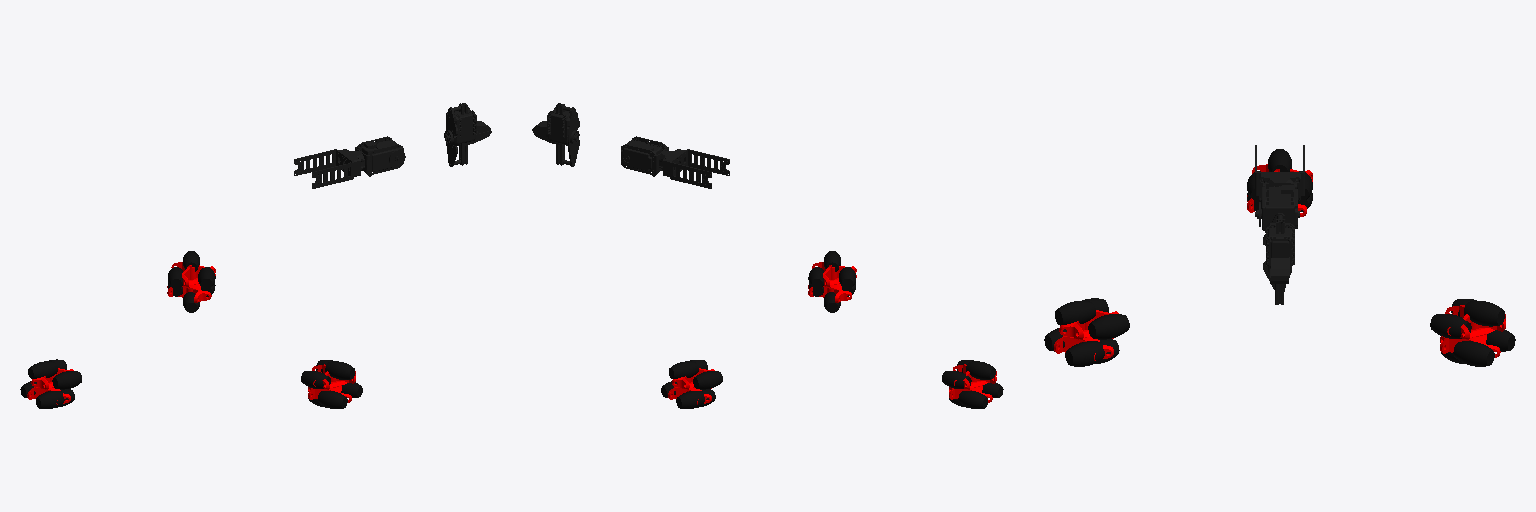
--- Facts derived from the render (not from the file) ---
Views: 3 orthographic renders of the robot side by side, from view 1: azimuth 30°, elevation 25°; view 2: azimuth 150°, elevation 25°; view 3: azimuth 270°, elevation 25°.
Model demo_DIR with 45 links and 44 joints (6 revolute, 21 continuous, 2 prismatic, 15 fixed), rooted at base_footprint, posed all joints at 0.
Visible links, largest first — view 1: forearm_link, wrist_2_link, rim_left_link, gripper_rail_link, rim_right_link; view 2: forearm_link, wrist_2_link, rim_right_link, gripper_rail_link, rim_back_link; view 3: forearm_link, rim_left_link, wrist_2_link, rim_right_link, roller_nw_rim_right_link, roller_sw_rim_left_link, roller_n_rim_left_link, roller_se_rim_right_link, roller_n_rim_right_link, roller_ne_rim_left_link.
Boxes of the visible links, left/top/right/bottom form: forearm_link: left=294, top=136, right=405, bottom=188; wrist_2_link: left=444, top=107, right=477, bottom=145; rim_left_link: left=167, top=262, right=215, bottom=302; gripper_rail_link: left=446, top=103, right=467, bottom=166; rim_right_link: left=308, top=364, right=355, bottom=402; forearm_link: left=621, top=136, right=729, bottom=188; wrist_2_link: left=546, top=107, right=579, bottom=145; rim_right_link: left=808, top=262, right=856, bottom=302; gripper_rail_link: left=556, top=103, right=579, bottom=166; rim_back_link: left=949, top=364, right=996, bottom=402; forearm_link: left=1255, top=145, right=1304, bottom=232; rim_left_link: left=1440, top=305, right=1505, bottom=357; wrist_2_link: left=1266, top=223, right=1294, bottom=274; rim_right_link: left=1054, top=310, right=1118, bottom=360; roller_nw_rim_right_link: left=1088, top=314, right=1129, bottom=339; roller_sw_rim_left_link: left=1453, top=341, right=1494, bottom=366; roller_n_rim_left_link: left=1464, top=301, right=1504, bottom=326; roller_se_rim_right_link: left=1065, top=341, right=1106, bottom=366; roller_n_rim_right_link: left=1055, top=301, right=1095, bottom=325; roller_ne_rim_left_link: left=1430, top=314, right=1471, bottom=338.
Size in the robot's own frame: 0.8057 by 0.5221 by 0.3421 metres.
26 mesh visuals loaded from 12 distinct referenced files (6 binary STL); not drawn: 7 (reference not matched to a file when rendering).

robot.urdf — demo_DIR:
<?xml version="1.0" encoding="utf-8"?>
<!-- =================================================================================== -->
<!-- |    This document was autogenerated by xacro from main.urdf.xacro                | -->
<!-- |    EDITING THIS FILE BY HAND IS NOT RECOMMENDED                                 | -->
<!-- =================================================================================== -->
<robot name="demo_DIR">
  <transmission name="tran1">
    <type>transmission_interface/SimpleTransmission</type>
    <joint name="joint_1">
      <hardwareInterface>hardware_interface/EffortJointInterface</hardwareInterface>
    </joint>
    <actuator name="motor1">
      <hardwareInterface>hardware_interface/EffortJointInterface</hardwareInterface>
      <mechanicalReduction>1</mechanicalReduction>
    </actuator>
  </transmission>
  <transmission name="tran2">
    <type>transmission_interface/SimpleTransmission</type>
    <joint name="joint_2">
      <hardwareInterface>hardware_interface/EffortJointInterface</hardwareInterface>
    </joint>
    <actuator name="motor2">
      <hardwareInterface>hardware_interface/EffortJointInterface</hardwareInterface>
      <mechanicalReduction>1</mechanicalReduction>
    </actuator>
  </transmission>
  <transmission name="tran3">
    <type>transmission_interface/SimpleTransmission</type>
    <joint name="joint_3">
      <hardwareInterface>hardware_interface/EffortJointInterface</hardwareInterface>
    </joint>
    <actuator name="motor3">
      <hardwareInterface>hardware_interface/EffortJointInterface</hardwareInterface>
      <mechanicalReduction>1</mechanicalReduction>
    </actuator>
  </transmission>
  <transmission name="tran4">
    <type>transmission_interface/SimpleTransmission</type>
    <joint name="joint_4">
      <hardwareInterface>hardware_interface/EffortJointInterface</hardwareInterface>
    </joint>
    <actuator name="motor4">
      <hardwareInterface>hardware_interface/EffortJointInterface</hardwareInterface>
      <mechanicalReduction>1</mechanicalReduction>
    </actuator>
  </transmission>
  <transmission name="tran5">
    <type>transmission_interface/SimpleTransmission</type>
    <joint name="joint_5">
      <hardwareInterface>hardware_interface/EffortJointInterface</hardwareInterface>
    </joint>
    <actuator name="motor5">
      <hardwareInterface>hardware_interface/EffortJointInterface</hardwareInterface>
      <mechanicalReduction>1</mechanicalReduction>
    </actuator>
  </transmission>
  <transmission name="tran7">
    <type>transmission_interface/SimpleTransmission</type>
    <joint name="gripper_prismatic_joint_1">
      <hardwareInterface>hardware_interface/EffortJointInterface</hardwareInterface>
    </joint>
    <actuator name="motor7">
      <hardwareInterface>hardware_interface/EffortJointInterface</hardwareInterface>
      <mechanicalReduction>1</mechanicalReduction>
    </actuator>
  </transmission>
  <transmission name="tran8">
    <type>transmission_interface/SimpleTransmission</type>
    <joint name="gripper_prismatic_joint_2">
      <hardwareInterface>hardware_interface/EffortJointInterface</hardwareInterface>
    </joint>
    <actuator name="motor8">
      <hardwareInterface>hardware_interface/EffortJointInterface</hardwareInterface>
      <mechanicalReduction>1</mechanicalReduction>
    </actuator>
  </transmission>
  <material name="camera_aluminum">
    <color rgba="0.5 0.5 0.5 1"/>
  </material>
  <!-- camera body, with origin at bottom screw mount -->
  <joint name="camera_joint" type="fixed">
    <origin rpy="0 0 0" xyz="0.025 0 0.01"/>
    <parent link="wrist_2_link"/>
    <child link="camera_bottom_screw_frame"/>
  </joint>
  <link name="camera_bottom_screw_frame"/>
  <joint name="camera_link_joint" type="fixed">
    <origin rpy="0 0 0" xyz="0 0.0175 0.0125"/>
    <parent link="camera_bottom_screw_frame"/>
    <child link="camera_link"/>
  </joint>
  <link name="camera_link">
    <visual>
      <origin rpy="1.57079632679 0 1.57079632679" xyz="0.0149 -0.0175 0"/>
      <geometry>
        <!-- <box size="${d435_cam_width} ${d435_cam_height} ${d435_cam_depth}"/> -->
        <mesh filename="package://realsense2_description/meshes/d435.dae"/>
        <!--<mesh filename="package://realsense2_description/meshes/d435/d435.dae" />-->
      </geometry>
      <material name="camera_aluminum"/>
    </visual>
    <collision>
      <origin rpy="0 0 0" xyz="0 -0.0175 0"/>
      <geometry>
        <box size="0.02505 0.09 0.025"/>
      </geometry>
    </collision>
    <!--inertial>
         The following are not reliable values, and should not be used for modeling 
        <mass value="0.564" />
        <origin xyz="0 0 0" />
        <inertia ixx="0.003881243" ixy="0.0" ixz="0.0" iyy="0.000498940" iyz="0.0" izz="0.003879257" />
      </inertial>-->
  </link>
  <!-- camera depth joints and links -->
  <joint name="camera_depth_joint" type="fixed">
    <origin rpy="0 0 0" xyz="0 0 0"/>
    <parent link="camera_link"/>
    <child link="camera_depth_frame"/>
  </joint>
  <link name="camera_depth_frame"/>
  <joint name="camera_depth_optical_joint" type="fixed">
    <origin rpy="-1.57079632679 0 -1.57079632679" xyz="0 0 0"/>
    <parent link="camera_depth_frame"/>
    <child link="camera_depth_optical_frame"/>
  </joint>
  <link name="camera_depth_optical_frame"/>
  <!-- camera left IR joints and links -->
  <joint name="camera_left_ir_joint" type="fixed">
    <origin rpy="0 0 0" xyz="0 0.0 0"/>
    <parent link="camera_depth_frame"/>
    <child link="camera_left_ir_frame"/>
  </joint>
  <link name="camera_left_ir_frame"/>
  <joint name="camera_left_ir_optical_joint" type="fixed">
    <origin rpy="-1.57079632679 0 -1.57079632679" xyz="0 0 0"/>
    <parent link="camera_left_ir_frame"/>
    <child link="camera_left_ir_optical_frame"/>
  </joint>
  <link name="camera_left_ir_optical_frame"/>
  <!-- camera right IR joints and links -->
  <joint name="camera_right_ir_joint" type="fixed">
    <origin rpy="0 0 0" xyz="0 -0.05 0"/>
    <parent link="camera_depth_frame"/>
    <child link="camera_right_ir_frame"/>
  </joint>
  <link name="camera_right_ir_frame"/>
  <joint name="camera_right_ir_optical_joint" type="fixed">
    <origin rpy="-1.57079632679 0 -1.57079632679" xyz="0 0 0"/>
    <parent link="camera_right_ir_frame"/>
    <child link="camera_right_ir_optical_frame"/>
  </joint>
  <link name="camera_right_ir_optical_frame"/>
  <!-- camera color joints and links -->
  <joint name="camera_color_joint" type="fixed">
    <origin rpy="0 0 0" xyz="0 0.015 0"/>
    <parent link="camera_depth_frame"/>
    <child link="camera_color_frame"/>
  </joint>
  <link name="camera_color_frame"/>
  <joint name="camera_color_optical_joint" type="fixed">
    <origin rpy="-1.57079632679 0 -1.57079632679" xyz="0 0 0"/>
    <parent link="camera_color_frame"/>
    <child link="camera_color_optical_frame"/>
  </joint>
  <link name="camera_color_optical_frame"/>
  <gazebo reference="camera_link">
    <self_collide>0</self_collide>
    <enable_wind>0</enable_wind>
    <kinematic>0</kinematic>
    <gravity>1</gravity>
    <!--<mu>1</mu>-->
    <mu2>1</mu2>
    <fdir1>0 0 0</fdir1>
    <!--<slip1>0</slip1>
      <slip2>0</slip2>-->
    <kp>1e+13</kp>
    <kd>1</kd>
    <!--<max_vel>0.01</max_vel>
      <min_depth>0</min_depth>-->
    <sensor name="cameracolor" type="camera">
      <camera name="camera">
        <horizontal_fov>1.21125850088</horizontal_fov>
        <image>
          <width>640</width>
          <height>480</height>
          <format>RGB_INT8</format>
        </image>
        <clip>
          <near>0.1</near>
          <far>100</far>
        </clip>
        <noise>
          <type>gaussian</type>
          <mean>0.0</mean>
          <stddev>0.007</stddev>
        </noise>
      </camera>
      <always_on>1</always_on>
      <update_rate>30</update_rate>
      <visualize>1</visualize>
    </sensor>
    <sensor name="cameraired1" type="camera">
      <camera name="camera">
        <horizontal_fov>1.4870205227</horizontal_fov>
        <image>
          <width>1280</width>
          <height>720</height>
          <format>L_INT8</format>
        </image>
        <clip>
          <near>0.1</near>
          <far>100</far>
        </clip>
        <noise>
          <type>gaussian</type>
          <mean>0.0</mean>
          <stddev>0.05</stddev>
        </noise>
      </camera>
      <always_on>1</always_on>
      <update_rate>90</update_rate>
      <visualize>0</visualize>
    </sensor>
    <sensor name="cameraired2" type="camera">
      <camera name="camera">
        <horizontal_fov>1.4870205227</horizontal_fov>
        <image>
          <width>1280</width>
          <height>720</height>
          <format>L_INT8</format>
        </image>
        <clip>
          <near>0.1</near>
          <far>100</far>
        </clip>
        <noise>
          <type>gaussian</type>
          <mean>0.0</mean>
          <stddev>0.05</stddev>
        </noise>
      </camera>
      <always_on>1</always_on>
      <update_rate>90</update_rate>
      <visualize>0</visualize>
    </sensor>
    <sensor name="cameradepth" type="depth">
      <camera name="camera">
        <horizontal_fov>1.4870205227</horizontal_fov>
        <image>
          <width>1280</width>
          <height>720</height>
        </image>
        <clip>
          <near>0.1</near>
          <far>100</far>
        </clip>
        <noise>
          <type>gaussian</type>
          <mean>0.0</mean>
          <stddev>0.100</stddev>
        </noise>
      </camera>
      <always_on>1</always_on>
      <update_rate>90</update_rate>
      <visualize>0</visualize>
    </sensor>
  </gazebo>
  <gazebo>
    <plugin filename="librealsense_gazebo_plugin.so" name="camera">
      <prefix>camera</prefix>
      <depthUpdateRate>30.0</depthUpdateRate>
      <colorUpdateRate>30.0</colorUpdateRate>
      <infraredUpdateRate>30.0</infraredUpdateRate>
      <depthTopicName>depth/image_rect_raw</depthTopicName>
      <depthCameraInfoTopicName>depth/camera_info</depthCameraInfoTopicName>
      <colorTopicName>color/image_raw</colorTopicName>
      <colorCameraInfoTopicName>color/camera_info</colorCameraInfoTopicName>
      <infrared1TopicName>infra1/image_raw</infrared1TopicName>
      <infrared1CameraInfoTopicName>infra1/camera_info</infrared1CameraInfoTopicName>
      <infrared2TopicName>infra2/image_raw</infrared2TopicName>
      <infrared2CameraInfoTopicName>infra2/camera_info</infrared2CameraInfoTopicName>
      <colorOpticalframeName>camera_color_optical_frame</colorOpticalframeName>
      <depthOpticalframeName>camera_depth_optical_frame</depthOpticalframeName>
      <infrared1OpticalframeName>camera_left_ir_optical_frame</infrared1OpticalframeName>
      <infrared2OpticalframeName>camera_right_ir_optical_frame</infrared2OpticalframeName>
      <rangeMinDepth>0.2</rangeMinDepth>
      <rangeMaxDepth>10.0</rangeMaxDepth>
      <pointCloud>True</pointCloud>
      <pointCloudTopicName>depth/color/points</pointCloudTopicName>
      <pointCloudCutoff>0.25</pointCloudCutoff>
      <pointCloudCutoffMax>9.0</pointCloudCutoffMax>
    </plugin>
  </gazebo>
  <link name="shoulder_link">
    <visual>
      <origin rpy="0 0 0" xyz="0 0 0"/>
      <geometry>
        <mesh filename="package://demo_navi/src/meshes/arm/shoulder_link.stl"/>
      </geometry>
      <material name="">
        <color rgba="0.15 0.15 0.15 1.0"/>
      </material>
    </visual>
    <collision>
      <origin rpy="0 0 0" xyz="0 0 0"/>
      <geometry>
        <mesh filename="package://demo_navi/src/meshes/arm/shoulder_link.stl"/>
      </geometry>
    </collision>
    <inertial>
      <origin rpy="0 0 0" xyz="0 0 0"/>
      <mass value="0.1"/>
      <inertia ixx="0.01" ixy="0.0" ixz="0.0" iyy="0.01" iyz="0.0" izz="0.01"/>
    </inertial>
  </link>
  <link name="biceps_link">
    <visual>
      <origin rpy="0 0 0" xyz="0.04825 0 0.14"/>
      <geometry>
        <mesh filename="package://demo_navi/src/meshes/arm/biceps_link.stl"/>
      </geometry>
      <material name="">
        <color rgba="0.15 0.15 0.15 1.0"/>
      </material>
    </visual>
    <collision>
      <origin rpy="0 0 0" xyz="0.04825 0 0.14"/>
      <geometry>
        <mesh filename="package://demo_navi/src/meshes/arm/biceps_link.stl"/>
      </geometry>
    </collision>
    <inertial>
      <origin rpy="0 0 0" xyz="0.04825 0 0.14"/>
      <mass value="0.1"/>
      <inertia ixx="0.01" ixy="0.0" ixz="0.0" iyy="0.01" iyz="0.0" izz="0.01"/>
    </inertial>
  </link>
  <link name="forearm_link">
    <visual>
      <origin rpy="0 0 0" xyz="0 0 0.14203"/>
      <geometry>
        <mesh filename="package://demo_navi/src/meshes/arm/forearm_link.stl"/>
      </geometry>
      <material name="">
        <color rgba="0.15 0.15 0.15 1.0"/>
      </material>
    </visual>
    <collision>
      <origin rpy="0 0 0" xyz="0 0 0.14203"/>
      <geometry>
        <mesh filename="package://demo_navi/src/meshes/arm/forearm_link.stl"/>
      </geometry>
    </collision>
    <inertial>
      <origin rpy="0 0 0" xyz="0 0 0.14203"/>
      <mass value="0.1"/>
      <inertia ixx="0.01" ixy="0.0" ixz="0.0" iyy="0.01" iyz="0.0" izz="0.01"/>
    </inertial>
  </link>
  <link name="wrist_1_link">
    <visual>
      <origin rpy="0 0 0" xyz="0 0 0"/>
      <geometry>
        <mesh filename="package://demo_navi/src/meshes/arm/wrist_1_link.stl"/>
      </geometry>
      <material name="">
        <color rgba="0.15 0.15 0.15 1.0"/>
      </material>
    </visual>
    <collision>
      <origin rpy="0 0 0" xyz="0 0 0"/>
      <geometry>
        <mesh filename="package://demo_navi/src/meshes/arm/wrist_1_link.stl"/>
      </geometry>
    </collision>
    <inertial>
      <origin rpy="0 0 0" xyz="0 0 0"/>
      <mass value="0.1"/>
      <inertia ixx="0.01" ixy="0.0" ixz="0.0" iyy="0.01" iyz="0.0" izz="0.01"/>
    </inertial>
  </link>
  <link name="wrist_2_link">
    <visual>
      <origin rpy="0 0 0" xyz="0 0 0.043"/>
      <geometry>
        <mesh filename="package://demo_navi/src/meshes/arm/wrist_2_link.stl"/>
      </geometry>
      <material name="">
        <color rgba="0.15 0.15 0.15 1.0"/>
      </material>
    </visual>
    <collision>
      <origin rpy="0 0 0" xyz="0 0 0.043"/>
      <geometry>
        <mesh filename="package://demo_navi/src/meshes/arm/wrist_2_link.stl"/>
      </geometry>
    </collision>
    <inertial>
      <origin rpy="0 0 0" xyz="0 0 0.043"/>
      <mass value="0.1"/>
      <inertia ixx="0.01" ixy="0.0" ixz="0.0" iyy="0.01" iyz="0.0" izz="0.01"/>
    </inertial>
  </link>
  <link name="gripper_rail_link">
    <visual>
      <origin rpy="0 0 1.57" xyz="0 0 0"/>
      <geometry>
        <mesh filename="package://demo_navi/src/meshes/arm/gripper_rail_link.stl"/>
      </geometry>
      <material name="">
        <color rgba="0.15 0.15 0.15 1.0"/>
      </material>
    </visual>
    <collision>
      <origin rpy="0 0 1.57" xyz="0 0 0"/>
      <geometry>
        <mesh filename="package://demo_navi/src/meshes/arm/gripper_rail_link.stl"/>
      </geometry>
    </collision>
    <inertial>
      <origin rpy="0 0 1.57" xyz="0 0 0"/>
      <mass value="0.1"/>
      <inertia ixx="0.01" ixy="0.0" ixz="0.0" iyy="0.01" iyz="0.0" izz="0.01"/>
    </inertial>
  </link>
  <link name="gripper_aux_link">
      </link>
  <link name="gripper_1_link">
    <visual>
      <origin rpy="0 0 1.57" xyz="0 -0.0007 0"/>
      <geometry>
        <mesh filename="package://demo_navi/src/meshes/arm/gripper_hand_fixed_link.stl"/>
      </geometry>
      <material name="">
        <color rgba="0.15 0.15 0.15 1.0"/>
      </material>
    </visual>
    <collision>
      <origin rpy="0 0 1.57" xyz="0 -0.0007 0"/>
      <geometry>
        <mesh filename="package://demo_navi/src/meshes/arm/gripper_hand_fixed_link.stl"/>
      </geometry>
    </collision>
    <inertial>
      <origin rpy="0 0 1.57" xyz="0 -0.0007 0"/>
      <mass value="0.1"/>
      <inertia ixx="0.01" ixy="0.0" ixz="0.0" iyy="0.01" iyz="0.0" izz="0.01"/>
    </inertial>
  </link>
  <link name="gripper_2_link">
    <visual>
      <origin rpy="0 0 -1.57" xyz="0 0.0007 0"/>
      <geometry>
        <mesh filename="package://demo_navi/src/meshes/arm/gripper_hand_fixed_link.stl"/>
      </geometry>
      <material name="">
        <color rgba="0.15 0.15 0.15 1.0"/>
      </material>
    </visual>
    <collision>
      <origin rpy="0 0 -1.57" xyz="0 0.0007 0"/>
      <geometry>
        <mesh filename="package://demo_navi/src/meshes/arm/gripper_hand_fixed_link.stl"/>
      </geometry>
    </collision>
    <inertial>
      <origin rpy="0 0 -1.57" xyz="0 0.0007 0"/>
      <mass value="0.1"/>
      <inertia ixx="0.01" ixy="0.0" ixz="0.0" iyy="0.01" iyz="0.0" izz="0.01"/>
    </inertial>
  </link>
  <!-- joints -->
  <joint name="joint_1" type="revolute">
    <origin rpy="0 0 0" xyz="0 0 0.15"/>
    <parent link="base_link"/>
    <child link="shoulder_link"/>
    <axis xyz="0 0 1"/>
    <limit effort="100" lower="-3.1415" upper="3.1415" velocity="1.0"/>
  </joint>
  <joint name="joint_2" type="revolute">
    <!--origin xyz="0.04825 0 0.14203" rpy="0 0 0" /-->
    <origin rpy="0 0 0" xyz="0 0 0"/>
    <parent link="shoulder_link"/>
    <child link="biceps_link"/>
    <axis xyz="0 1 0"/>
    <limit effort="100" lower="-1.571" upper="1.571" velocity="1.0"/>
  </joint>
  <joint name="joint_3" type="revolute">
    <origin rpy="0 1.571 0" xyz="0.04825 0 0.14203"/>
    <parent link="biceps_link"/>
    <child link="forearm_link"/>
    <axis xyz="0 1 0"/>
    <limit effort="100" lower="-1.571" upper="1.571" velocity="1.0"/>
  </joint>
  <joint name="joint_4" type="revolute">
    <origin rpy="0 0 0" xyz="0 0 0.14203"/>
    <parent link="forearm_link"/>
    <child link="wrist_1_link"/>
    <axis xyz="0 1 0"/>
    <limit effort="100" lower="-1.745" upper="1.745" velocity="1.0"/>
  </joint>
  <joint name="joint_5" type="revolute">
    <origin rpy="0 0 0" xyz="0 0 0.0715"/>
    <parent link="wrist_1_link"/>
    <child link="wrist_2_link"/>
    <axis xyz="0 0 1"/>
    <limit effort="100" lower="-2.617" upper="2.617" velocity="1.0"/>
  </joint>
  <joint name="joint_6" type="fixed">
    <origin rpy="0 0 0" xyz="0 0 0.043"/>
    <parent link="wrist_2_link"/>
    <child link="gripper_rail_link"/>
    <axis xyz="0 0 1"/>
    <limit effort="100" lower="-0.31" upper="0.1" velocity="0.5"/>
  </joint>
  <joint name="gripper_revolute_joint" type="revolute">
    <origin rpy="0 0 0" xyz="0 0 0"/>
    <parent link="gripper_rail_link"/>
    <child link="gripper_aux_link"/>
    <axis xyz="0 0 1"/>
    <limit effort="10000" lower="0" upper="2.6" velocity="0.5"/>
  </joint>
  <joint name="gripper_prismatic_joint_1" type="prismatic">
    <origin rpy="0 0 0" xyz="0 0 0"/>
    <parent link="gripper_rail_link"/>
    <child link="gripper_1_link"/>
    <axis xyz="0 -1 0"/>
    <limit effort="10000" lower="0" upper="0.027" velocity="0.5"/>
  </joint>
  <joint name="gripper_prismatic_joint_2" type="prismatic">
    <origin rpy="0 0 0" xyz="0 0 0"/>
    <parent link="gripper_rail_link"/>
    <child link="gripper_2_link"/>
    <axis xyz="0 1 0"/>
    <limit effort="10000" lower="0" upper="0.027" velocity="0.5"/>
  </joint>
  <link name="base_footprint"/>
  <link name="imu_link"/>
  <link name="base_link">
    <inertial>
      <origin rpy="0 0 0" xyz="-0.147 0 0.05"/>
      <mass value="15"/>
      <inertia ixx="15.0" ixy="0" ixz="0" iyy="15.0" iyz="0" izz="9.0"/>
    </inertial>
    <visual>
      <origin rpy="0 0 0" xyz="0 0 0"/>
      <geometry>
        <mesh filename="package://demo_navi/src/meshes/base_link.stl"/>
      </geometry>
      <material name="base_material">
        <color rgba="0.098039 0.098039 0.098039 1"/>
      </material>
    </visual>
    <collision>
      <origin rpy="0 0 0" xyz="0 0 0"/>
      <geometry>
        <mesh filename="package://demo_navi/src/meshes/base_link.stl"/>
      </geometry>
    </collision>
  </link>
  <joint name="base_joint" type="fixed">
    <parent link="base_footprint"/>
    <child link="base_link"/>
    <origin xyz="0.144 0 0"/>
  </joint>
  <joint name="imu_joint" type="fixed">
    <parent link="base_footprint"/>
    <child link="imu_link"/>
    <origin xyz="-0.145 0 0.091"/>
  </joint>
  <link name="rim_left_link">
    <inertial>
      <origin xyz="0 0 0"/>
      <mass value="0.5"/>
      <inertia ixx="0.7" ixy="0" ixz="0" iyy="0.7" iyz="0" izz="0.8"/>
    </inertial>
    <visual>
      <geometry>
        <mesh filename="package://demo_navi/src/meshes/rim.stl"/>
      </geometry>
      <material name="rim_left_material">
        <color rgba="1.3 0 0 1"/>
      </material>
    </visual>
    <collision>
      <geometry>
        <mesh filename="package://demo_navi/src/meshes/rim.stl"/>
      </geometry>
    </collision>
  </link>
  <joint name="rim_left_joint" type="continuous">
    <parent link="base_link"/>
    <child link="rim_left_link"/>
    <axis xyz="1 0 0"/>
    <origin rpy="0 0 -2.0944" xyz="-0.0267 0.214 0.04"/>
    <limit effort="100000000" velocity="10"/>
  </joint>
  <link name="roller_s_rim_left_link">
    <inertial>
      <mass value="0.1"/>
      <inertia ixx="6.8e-01" ixy="0" ixz="0" iyy="6.8e-01" iyz="0" izz="0.0101"/>
    </inertial>
    <visual>
      <geometry>
        <mesh filename="package://demo_navi/src/meshes/roller.stl"/>
      </geometry>
      <material name="roller_material">
        <color rgba="0.1 0.1 0.1 1"/>
      </material>
    </visual>
    <collision>
      <geometry>
        <mesh filename="package://demo_navi/src/meshes/roller.stl"/>
      </geometry>
    </collision>
  </link>
  <joint name="roller_s_rim_left_joint" type="continuous">
    <parent link="rim_left_link"/>
    <child link="roller_s_rim_left_link"/>
    <axis xyz="0 1 0"/>
    <origin rpy="0 0 0" xyz="0.0153 0 -0.0266"/>
    <limit effort="100000000" velocity="10"/>
  </joint>
  <gazebo reference="roller_s_rim_left_link">
    <!--<mu1>50.0</mu1>
  			<mu2>25.0</mu2>
      		<kp  value="10000000000.0" />
      		<kd  value="10000000000.0" /-->
    <dampingFactor>10</dampingFactor>
    <minDepth>1</minDepth>
    <material>Gazebo/Grey</material>
  </gazebo>
  <!--<gazebo reference="roller_${name}_rim_${parent}_joint">
    <selfCollide>False</selfCollide>
    <dampingFactor>10</dampingFactor>
    <minDepth>0.001</minDepth>
  </gazebo>-->
  <link name="roller_nw_rim_left_link">
    <inertial>
      <mass value="0.1"/>
      <inertia ixx="6.8e-01" ixy="0" ixz="0" iyy="6.8e-01" iyz="0" izz="0.0101"/>
    </inertial>
    <visual>
      <geometry>
        <mesh filename="package://demo_navi/src/meshes/roller.stl"/>
      </geometry>
      <material name="roller_material">
        <color rgba="0.1 0.1 0.1 1"/>
      </material>
    </visual>
    <collision>
      <geometry>
        <mesh filename="package://demo_navi/src/meshes/roller.stl"/>
      </geometry>
    </collision>
  </link>
  <joint name="roller_nw_rim_left_joint" type="continuous">
    <parent link="rim_left_link"/>
    <child link="roller_nw_rim_left_link"/>
    <axis xyz="0 1 0"/>
    <origin rpy="1.0472 0 0" xyz="0.015 -0.0231 0.0131"/>
    <limit effort="100000000" velocity="10"/>
  </joint>
  <gazebo reference="roller_nw_rim_left_link">
    <!--<mu1>50.0</mu1>
  			<mu2>25.0</mu2>
      		<kp  value="10000000000.0" />
      		<kd  value="10000000000.0" /-->
    <dampingFactor>10</dampingFactor>
    <minDepth>1</minDepth>
    <material>Gazebo/Grey</material>
  </gazebo>
  <!--<gazebo reference="roller_${name}_rim_${parent}_joint">
    <selfCollide>False</selfCollide>
    <dampingFactor>10</dampingFactor>
    <minDepth>0.001</minDepth>
  </gazebo>-->
  <link name="roller_ne_rim_left_link">
    <inertial>
      <mass value="0.1"/>
      <inertia ixx="6.8e-01" ixy="0" ixz="0" iyy="6.8e-01" iyz="0" izz="0.0101"/>
    </inertial>
    <visual>
      <geometry>
        <mesh filename="package://demo_navi/src/meshes/roller.stl"/>
      </geometry>
      <material name="roller_material">
        <color rgba="0.1 0.1 0.1 1"/>
      </material>
    </visual>
    <collision>
      <geometry>
        <mesh filename="package://demo_navi/src/meshes/roller.stl"/>
      </geometry>
    </collision>
  </link>
  <joint name="roller_ne_rim_left_joint" type="continuous">
    <parent link="rim_left_link"/>
    <child link="roller_ne_rim_left_link"/>
    <axis xyz="0 1 0"/>
    <origin rpy="-1.0472 0 0" xyz="0.015 0.0231 0.0135"/>
    <limit effort="100000000" velocity="10"/>
  </joint>
  <gazebo reference="roller_ne_rim_left_link">
    <!--<mu1>50.0</mu1>
  			<mu2>25.0</mu2>
      		<kp  value="10000000000.0" />
      		<kd  value="10000000000.0" /-->
    <dampingFactor>10</dampingFactor>
    <minDepth>1</minDepth>
    <material>Gazebo/Grey</material>
  </gazebo>
  <!--<gazebo reference="roller_${name}_rim_${parent}_joint">
    <selfCollide>False</selfCollide>
    <dampingFactor>10</dampingFactor>
    <minDepth>0.001</minDepth>
  </gazebo>-->
  <link name="roller_sw_rim_left_link">
    <inertial>
      <mass value="0.1"/>
      <inertia ixx="6.8e-01" ixy="0" ixz="0" iyy="6.8e-01" iyz="0" izz="0.0101"/>
    </inertial>
    <visual>
      <geometry>
        <mesh filename="package://demo_navi/src/meshes/roller.stl"/>
      </geometry>
      <material name="roller_material">
        <color rgba="0.1 0.1 0.1 1"/>
      </material>
    </visual>
    <collision>
      <geometry>
        <mesh filename="package://demo_navi/src/meshes/roller.stl"/>
      </geometry>
    </collision>
  </link>
  <joint name="roller_sw_rim_left_joint" type="continuous">
    <parent link="rim_left_link"/>
    <child link="roller_sw_rim_left_link"/>
    <axis xyz="0 1 0"/>
    <origin rpy="1.0472 0 0" xyz="-0.0146 0.023 -0.0133"/>
    <limit effort="100000000" velocity="10"/>
  </joint>
  <gazebo reference="roller_sw_rim_left_link">
    <!--<mu1>50.0</mu1>
  			<mu2>25.0</mu2>
      		<kp  value="10000000000.0" />
      		<kd  value="10000000000.0" /-->
    <dampingFactor>10</dampingFactor>
    <minDepth>1</minDepth>
    <material>Gazebo/Grey</material>
  </gazebo>
  <!--<gazebo reference="roller_${name}_rim_${parent}_joint">
    <selfCollide>False</selfCollide>
    <dampingFactor>10</dampingFactor>
    <minDepth>0.001</minDepth>
  </gazebo>-->
  <link name="roller_n_rim_left_link">
    <inertial>
      <mass value="0.1"/>
      <inertia ixx="6.8e-01" ixy="0" ixz="0" iyy="6.8e-01" iyz="0" izz="0.0101"/>
    </inertial>
    <visual>
      <geometry>
        <mesh filename="package://demo_navi/src/meshes/roller.stl"/>
      </geometry>
      <material name="roller_material">
        <color rgba="0.1 0.1 0.1 1"/>
      </material>
    </visual>
    <collision>
      <geometry>
        <mesh filename="package://demo_navi/src/meshes/roller.stl"/>
      </geometry>
    </collision>
  </link>
  <joint name="roller_n_rim_left_joint" type="continuous">
    <parent link="rim_left_link"/>
    <child link="roller_n_rim_left_link"/>
    <axis xyz="0 1 0"/>
    <origin rpy="0 0 0" xyz="-0.0146 0 0.0268"/>
    <limit effort="100000000" velocity="10"/>
  </joint>
  <gazebo reference="roller_n_rim_left_link">
    <!--<mu1>50.0</mu1>
  			<mu2>25.0</mu2>
      		<kp  value="10000000000.0" />
      		<kd  value="10000000000.0" /-->
    <dampingFactor>10</dampingFactor>
    <minDepth>1</minDepth>
    <material>Gazebo/Grey</material>
  </gazebo>
  <!--<gazebo reference="roller_${name}_rim_${parent}_joint">
    <selfCollide>False</selfCollide>
    <dampingFactor>10</dampingFactor>
    <minDepth>0.001</minDepth>
  </gazebo>-->
  <link name="roller_se_rim_left_link">
    <inertial>
      <mass value="0.1"/>
      <inertia ixx="6.8e-01" ixy="0" ixz="0" iyy="6.8e-01" iyz="0" izz="0.0101"/>
    </inertial>
    <visual>
      <geometry>
        <mesh filename="package://demo_navi/src/meshes/roller.stl"/>
      </geometry>
      <material name="roller_material">
        <color rgba="0.1 0.1 0.1 1"/>
      </material>
    </visual>
    <collision>
      <geometry>
        <mesh filename="package://demo_navi/src/meshes/roller.stl"/>
      </geometry>
    </collision>
  </link>
  <joint name="roller_se_rim_left_joint" type="continuous">
    <parent link="rim_left_link"/>
    <child link="roller_se_rim_left_link"/>
    <axis xyz="0 1 0"/>
    <origin rpy="-1.0472 0 0" xyz="-0.0146 -0.023 -0.0133"/>
    <limit effort="100000000" velocity="10"/>
  </joint>
  <gazebo reference="roller_se_rim_left_link">
    <!--<mu1>50.0</mu1>
  			<mu2>25.0</mu2>
      		<kp  value="10000000000.0" />
      		<kd  value="10000000000.0" /-->
    <dampingFactor>10</dampingFactor>
    <minDepth>1</minDepth>
    <material>Gazebo/Grey</material>
  </gazebo>
  <!--<gazebo reference="roller_${name}_rim_${parent}_joint">
    <selfCollide>False</selfCollide>
    <dampingFactor>10</dampingFactor>
    <minDepth>0.001</minDepth>
  </gazebo>-->
  <transmission name="rim_left_transmission">
    <type>transmission_interface/SimpleTransmission</type>
    <joint name="rim_left_joint">
      <hardwareInterface>hardware_interface/VelocityJointInterface</hardwareInterface>
    </joint>
    <actuator name="rim_left_motor">
      <hardwareInterface>hardware_interface/VelocityJointInterface</hardwareInterface>
      <mechanicalReduction>1</mechanicalReduction>
    </actuator>
  </transmission>
  <gazebo reference="rim_left_link">
    <!--mu1>50.0</mu1>
  				<mu2>25.0</mu2-->
    <!--kp  value="10000000.0" />
      			<selfCollide>False</selfCollide>
      			<kd  value="10000000.0" /-->
    <dampingFactor>10</dampingFactor>
    <minDepth>1</minDepth>
  </gazebo>
  <link name="rim_back_link">
    <inertial>
      <origin xyz="0 0 0"/>
      <mass value="0.5"/>
      <inertia ixx="0.7" ixy="0" ixz="0" iyy="0.7" iyz="0" izz="0.8"/>
    </inertial>
    <visual>
      <geometry>
        <mesh filename="package://demo_navi/src/meshes/rim.stl"/>
      </geometry>
      <material name="rim_back_material">
        <color rgba="1.3 0 0 1"/>
      </material>
    </visual>
    <collision>
      <geometry>
        <mesh filename="package://demo_navi/src/meshes/rim.stl"/>
      </geometry>
    </collision>
  </link>
  <joint name="rim_back_joint" type="continuous">
    <parent link="base_link"/>
    <child link="rim_back_link"/>
    <axis xyz="1 0 0"/>
    <origin rpy="0 0 0" xyz="-0.397 0 0.04"/>
    <limit effort="100000000" velocity="10"/>
  </joint>
  <link name="roller_s_rim_back_link">
    <inertial>
      <mass value="0.1"/>
      <inertia ixx="6.8e-01" ixy="0" ixz="0" iyy="6.8e-01" iyz="0" izz="0.0101"/>
    </inertial>
    <visual>
      <geometry>
        <mesh filename="package://demo_navi/src/meshes/roller.stl"/>
      </geometry>
      <material name="roller_material">
        <color rgba="0.1 0.1 0.1 1"/>
      </material>
    </visual>
    <collision>
      <geometry>
        <mesh filename="package://demo_navi/src/meshes/roller.stl"/>
      </geometry>
    </collision>
  </link>
  <joint name="roller_s_rim_back_joint" type="continuous">
    <parent link="rim_back_link"/>
    <child link="roller_s_rim_back_link"/>
    <axis xyz="0 1 0"/>
    <origin rpy="0 0 0" xyz="0.0153 0 -0.0266"/>
    <limit effort="100000000" velocity="10"/>
  </joint>
  <gazebo reference="roller_s_rim_back_link">
    <!--<mu1>50.0</mu1>
  			<mu2>25.0</mu2>
      		<kp  value="10000000000.0" />
      		<kd  value="10000000000.0" /-->
    <dampingFactor>10</dampingFactor>
    <minDepth>1</minDepth>
    <material>Gazebo/Grey</material>
  </gazebo>
  <!--<gazebo reference="roller_${name}_rim_${parent}_joint">
    <selfCollide>False</selfCollide>
    <dampingFactor>10</dampingFactor>
    <minDepth>0.001</minDepth>
  </gazebo>-->
  <link name="roller_nw_rim_back_link">
    <inertial>
      <mass value="0.1"/>
      <inertia ixx="6.8e-01" ixy="0" ixz="0" iyy="6.8e-01" iyz="0" izz="0.0101"/>
    </inertial>
    <visual>
      <geometry>
        <mesh filename="package://demo_navi/src/meshes/roller.stl"/>
      </geometry>
      <material name="roller_material">
        <color rgba="0.1 0.1 0.1 1"/>
      </material>
    </visual>
    <collision>
      <geometry>
        <mesh filename="package://demo_navi/src/meshes/roller.stl"/>
      </geometry>
    </collision>
  </link>
  <joint name="roller_nw_rim_back_joint" type="continuous">
    <parent link="rim_back_link"/>
    <child link="roller_nw_rim_back_link"/>
    <axis xyz="0 1 0"/>
    <origin rpy="1.0472 0 0" xyz="0.015 -0.0231 0.0131"/>
    <limit effort="100000000" velocity="10"/>
  </joint>
  <gazebo reference="roller_nw_rim_back_link">
    <!--<mu1>50.0</mu1>
  			<mu2>25.0</mu2>
      		<kp  value="10000000000.0" />
      		<kd  value="10000000000.0" /-->
    <dampingFactor>10</dampingFactor>
    <minDepth>1</minDepth>
    <material>Gazebo/Grey</material>
  </gazebo>
  <!--<gazebo reference="roller_${name}_rim_${parent}_joint">
    <selfCollide>False</selfCollide>
    <dampingFactor>10</dampingFactor>
    <minDepth>0.001</minDepth>
  </gazebo>-->
  <link name="roller_ne_rim_back_link">
    <inertial>
      <mass value="0.1"/>
      <inertia ixx="6.8e-01" ixy="0" ixz="0" iyy="6.8e-01" iyz="0" izz="0.0101"/>
    </inertial>
    <visual>
      <geometry>
        <mesh filename="package://demo_navi/src/meshes/roller.stl"/>
      </geometry>
      <material name="roller_material">
        <color rgba="0.1 0.1 0.1 1"/>
      </material>
    </visual>
    <collision>
      <geometry>
        <mesh filename="package://demo_navi/src/meshes/roller.stl"/>
      </geometry>
    </collision>
  </link>
  <joint name="roller_ne_rim_back_joint" type="continuous">
    <parent link="rim_back_link"/>
    <child link="roller_ne_rim_back_link"/>
    <axis xyz="0 1 0"/>
    <origin rpy="-1.0472 0 0" xyz="0.015 0.0231 0.0135"/>
    <limit effort="100000000" velocity="10"/>
  </joint>
  <gazebo reference="roller_ne_rim_back_link">
    <!--<mu1>50.0</mu1>
  			<mu2>25.0</mu2>
      		<kp  value="10000000000.0" />
      		<kd  value="10000000000.0" /-->
    <dampingFactor>10</dampingFactor>
    <minDepth>1</minDepth>
    <material>Gazebo/Grey</material>
  </gazebo>
  <!--<gazebo reference="roller_${name}_rim_${parent}_joint">
    <selfCollide>False</selfCollide>
    <dampingFactor>10</dampingFactor>
    <minDepth>0.001</minDepth>
  </gazebo>-->
  <link name="roller_sw_rim_back_link">
    <inertial>
      <mass value="0.1"/>
      <inertia ixx="6.8e-01" ixy="0" ixz="0" iyy="6.8e-01" iyz="0" izz="0.0101"/>
    </inertial>
    <visual>
      <geometry>
        <mesh filename="package://demo_navi/src/meshes/roller.stl"/>
      </geometry>
      <material name="roller_material">
        <color rgba="0.1 0.1 0.1 1"/>
      </material>
    </visual>
    <collision>
      <geometry>
        <mesh filename="package://demo_navi/src/meshes/roller.stl"/>
      </geometry>
    </collision>
  </link>
  <joint name="roller_sw_rim_back_joint" type="continuous">
    <parent link="rim_back_link"/>
    <child link="roller_sw_rim_back_link"/>
    <axis xyz="0 1 0"/>
    <origin rpy="1.0472 0 0" xyz="-0.0146 0.023 -0.0133"/>
    <limit effort="100000000" velocity="10"/>
  </joint>
  <gazebo reference="roller_sw_rim_back_link">
    <!--<mu1>50.0</mu1>
  			<mu2>25.0</mu2>
      		<kp  value="10000000000.0" />
      		<kd  value="10000000000.0" /-->
    <dampingFactor>10</dampingFactor>
    <minDepth>1</minDepth>
    <material>Gazebo/Grey</material>
  </gazebo>
  <!--<gazebo reference="roller_${name}_rim_${parent}_joint">
    <selfCollide>False</selfCollide>
    <dampingFactor>10</dampingFactor>
    <minDepth>0.001</minDepth>
  </gazebo>-->
  <link name="roller_n_rim_back_link">
    <inertial>
      <mass value="0.1"/>
      <inertia ixx="6.8e-01" ixy="0" ixz="0" iyy="6.8e-01" iyz="0" izz="0.0101"/>
    </inertial>
    <visual>
      <geometry>
        <mesh filename="package://demo_navi/src/meshes/roller.stl"/>
      </geometry>
      <material name="roller_material">
        <color rgba="0.1 0.1 0.1 1"/>
      </material>
    </visual>
    <collision>
      <geometry>
        <mesh filename="package://demo_navi/src/meshes/roller.stl"/>
      </geometry>
    </collision>
  </link>
  <joint name="roller_n_rim_back_joint" type="continuous">
    <parent link="rim_back_link"/>
    <child link="roller_n_rim_back_link"/>
    <axis xyz="0 1 0"/>
    <origin rpy="0 0 0" xyz="-0.0146 0 0.0268"/>
    <limit effort="100000000" velocity="10"/>
  </joint>
  <gazebo reference="roller_n_rim_back_link">
    <!--<mu1>50.0</mu1>
  			<mu2>25.0</mu2>
      		<kp  value="10000000000.0" />
      		<kd  value="10000000000.0" /-->
    <dampingFactor>10</dampingFactor>
    <minDepth>1</minDepth>
    <material>Gazebo/Grey</material>
  </gazebo>
  <!--<gazebo reference="roller_${name}_rim_${parent}_joint">
    <selfCollide>False</selfCollide>
    <dampingFactor>10</dampingFactor>
    <minDepth>0.001</minDepth>
  </gazebo>-->
  <link name="roller_se_rim_back_link">
    <inertial>
      <mass value="0.1"/>
      <inertia ixx="6.8e-01" ixy="0" ixz="0" iyy="6.8e-01" iyz="0" izz="0.0101"/>
    </inertial>
    <visual>
      <geometry>
        <mesh filename="package://demo_navi/src/meshes/roller.stl"/>
      </geometry>
      <material name="roller_material">
        <color rgba="0.1 0.1 0.1 1"/>
      </material>
    </visual>
    <collision>
      <geometry>
        <mesh filename="package://demo_navi/src/meshes/roller.stl"/>
      </geometry>
    </collision>
  </link>
  <joint name="roller_se_rim_back_joint" type="continuous">
    <parent link="rim_back_link"/>
    <child link="roller_se_rim_back_link"/>
    <axis xyz="0 1 0"/>
    <origin rpy="-1.0472 0 0" xyz="-0.0146 -0.023 -0.0133"/>
    <limit effort="100000000" velocity="10"/>
  </joint>
  <gazebo reference="roller_se_rim_back_link">
    <!--<mu1>50.0</mu1>
  			<mu2>25.0</mu2>
      		<kp  value="10000000000.0" />
      		<kd  value="10000000000.0" /-->
    <dampingFactor>10</dampingFactor>
    <minDepth>1</minDepth>
    <material>Gazebo/Grey</material>
  </gazebo>
  <!--<gazebo reference="roller_${name}_rim_${parent}_joint">
    <selfCollide>False</selfCollide>
    <dampingFactor>10</dampingFactor>
    <minDepth>0.001</minDepth>
  </gazebo>-->
  <transmission name="rim_back_transmission">
    <type>transmission_interface/SimpleTransmission</type>
    <joint name="rim_back_joint">
      <hardwareInterface>hardware_interface/VelocityJointInterface</hardwareInterface>
    </joint>
    <actuator name="rim_back_motor">
      <hardwareInterface>hardware_interface/VelocityJointInterface</hardwareInterface>
      <mechanicalReduction>1</mechanicalReduction>
    </actuator>
  </transmission>
  <gazebo reference="rim_back_link">
    <!--mu1>50.0</mu1>
  				<mu2>25.0</mu2-->
    <!--kp  value="10000000.0" />
      			<selfCollide>False</selfCollide>
      			<kd  value="10000000.0" /-->
    <dampingFactor>10</dampingFactor>
    <minDepth>1</minDepth>
  </gazebo>
  <link name="rim_right_link">
    <inertial>
      <origin xyz="0 0 0"/>
      <mass value="0.5"/>
      <inertia ixx="0.7" ixy="0" ixz="0" iyy="0.7" iyz="0" izz="0.8"/>
    </inertial>
    <visual>
      <geometry>
        <mesh filename="package://demo_navi/src/meshes/rim.stl"/>
      </geometry>
      <material name="rim_right_material">
        <color rgba="1.3 0 0 1"/>
      </material>
    </visual>
    <collision>
      <geometry>
        <mesh filename="package://demo_navi/src/meshes/rim.stl"/>
      </geometry>
    </collision>
  </link>
  <joint name="rim_right_joint" type="continuous">
    <parent link="base_link"/>
    <child link="rim_right_link"/>
    <axis xyz="1 0 0"/>
    <origin rpy="0 0 2.0944" xyz="-0.0267 -0.214 0.04"/>
    <limit effort="100000000" velocity="10"/>
  </joint>
  <link name="roller_s_rim_right_link">
    <inertial>
      <mass value="0.1"/>
      <inertia ixx="6.8e-01" ixy="0" ixz="0" iyy="6.8e-01" iyz="0" izz="0.0101"/>
    </inertial>
    <visual>
      <geometry>
        <mesh filename="package://demo_navi/src/meshes/roller.stl"/>
      </geometry>
      <material name="roller_material">
        <color rgba="0.1 0.1 0.1 1"/>
      </material>
    </visual>
    <collision>
      <geometry>
        <mesh filename="package://demo_navi/src/meshes/roller.stl"/>
      </geometry>
    </collision>
  </link>
  <joint name="roller_s_rim_right_joint" type="continuous">
    <parent link="rim_right_link"/>
    <child link="roller_s_rim_right_link"/>
    <axis xyz="0 1 0"/>
    <origin rpy="0 0 0" xyz="0.0153 0 -0.0266"/>
    <limit effort="100000000" velocity="10"/>
  </joint>
  <gazebo reference="roller_s_rim_right_link">
    <!--<mu1>50.0</mu1>
  			<mu2>25.0</mu2>
      		<kp  value="10000000000.0" />
      		<kd  value="10000000000.0" /-->
    <dampingFactor>10</dampingFactor>
    <minDepth>1</minDepth>
    <material>Gazebo/Grey</material>
  </gazebo>
  <!--<gazebo reference="roller_${name}_rim_${parent}_joint">
    <selfCollide>False</selfCollide>
    <dampingFactor>10</dampingFactor>
    <minDepth>0.001</minDepth>
  </gazebo>-->
  <link name="roller_nw_rim_right_link">
    <inertial>
      <mass value="0.1"/>
      <inertia ixx="6.8e-01" ixy="0" ixz="0" iyy="6.8e-01" iyz="0" izz="0.0101"/>
    </inertial>
    <visual>
      <geometry>
        <mesh filename="package://demo_navi/src/meshes/roller.stl"/>
      </geometry>
      <material name="roller_material">
        <color rgba="0.1 0.1 0.1 1"/>
      </material>
    </visual>
    <collision>
      <geometry>
        <mesh filename="package://demo_navi/src/meshes/roller.stl"/>
      </geometry>
    </collision>
  </link>
  <joint name="roller_nw_rim_right_joint" type="continuous">
    <parent link="rim_right_link"/>
    <child link="roller_nw_rim_right_link"/>
    <axis xyz="0 1 0"/>
    <origin rpy="1.0472 0 0" xyz="0.015 -0.0231 0.0131"/>
    <limit effort="100000000" velocity="10"/>
  </joint>
  <gazebo reference="roller_nw_rim_right_link">
    <!--<mu1>50.0</mu1>
  			<mu2>25.0</mu2>
      		<kp  value="10000000000.0" />
      		<kd  value="10000000000.0" /-->
    <dampingFactor>10</dampingFactor>
    <minDepth>1</minDepth>
    <material>Gazebo/Grey</material>
  </gazebo>
  <!--<gazebo reference="roller_${name}_rim_${parent}_joint">
    <selfCollide>False</selfCollide>
    <dampingFactor>10</dampingFactor>
    <minDepth>0.001</minDepth>
  </gazebo>-->
  <link name="roller_ne_rim_right_link">
    <inertial>
      <mass value="0.1"/>
      <inertia ixx="6.8e-01" ixy="0" ixz="0" iyy="6.8e-01" iyz="0" izz="0.0101"/>
    </inertial>
    <visual>
      <geometry>
        <mesh filename="package://demo_navi/src/meshes/roller.stl"/>
      </geometry>
      <material name="roller_material">
        <color rgba="0.1 0.1 0.1 1"/>
      </material>
    </visual>
    <collision>
      <geometry>
        <mesh filename="package://demo_navi/src/meshes/roller.stl"/>
      </geometry>
    </collision>
  </link>
  <joint name="roller_ne_rim_right_joint" type="continuous">
    <parent link="rim_right_link"/>
    <child link="roller_ne_rim_right_link"/>
    <axis xyz="0 1 0"/>
    <origin rpy="-1.0472 0 0" xyz="0.015 0.0231 0.0135"/>
    <limit effort="100000000" velocity="10"/>
  </joint>
  <gazebo reference="roller_ne_rim_right_link">
    <!--<mu1>50.0</mu1>
  			<mu2>25.0</mu2>
      		<kp  value="10000000000.0" />
      		<kd  value="10000000000.0" /-->
    <dampingFactor>10</dampingFactor>
    <minDepth>1</minDepth>
    <material>Gazebo/Grey</material>
  </gazebo>
  <!--<gazebo reference="roller_${name}_rim_${parent}_joint">
    <selfCollide>False</selfCollide>
    <dampingFactor>10</dampingFactor>
    <minDepth>0.001</minDepth>
  </gazebo>-->
  <link name="roller_sw_rim_right_link">
    <inertial>
      <mass value="0.1"/>
      <inertia ixx="6.8e-01" ixy="0" ixz="0" iyy="6.8e-01" iyz="0" izz="0.0101"/>
    </inertial>
    <visual>
      <geometry>
        <mesh filename="package://demo_navi/src/meshes/roller.stl"/>
      </geometry>
      <material name="roller_material">
        <color rgba="0.1 0.1 0.1 1"/>
      </material>
    </visual>
    <collision>
      <geometry>
        <mesh filename="package://demo_navi/src/meshes/roller.stl"/>
      </geometry>
    </collision>
  </link>
  <joint name="roller_sw_rim_right_joint" type="continuous">
    <parent link="rim_right_link"/>
    <child link="roller_sw_rim_right_link"/>
    <axis xyz="0 1 0"/>
    <origin rpy="1.0472 0 0" xyz="-0.0146 0.023 -0.0133"/>
    <limit effort="100000000" velocity="10"/>
  </joint>
  <gazebo reference="roller_sw_rim_right_link">
    <!--<mu1>50.0</mu1>
  			<mu2>25.0</mu2>
      		<kp  value="10000000000.0" />
      		<kd  value="10000000000.0" /-->
    <dampingFactor>10</dampingFactor>
    <minDepth>1</minDepth>
    <material>Gazebo/Grey</material>
  </gazebo>
  <!--<gazebo reference="roller_${name}_rim_${parent}_joint">
    <selfCollide>False</selfCollide>
    <dampingFactor>10</dampingFactor>
    <minDepth>0.001</minDepth>
  </gazebo>-->
  <link name="roller_n_rim_right_link">
    <inertial>
      <mass value="0.1"/>
      <inertia ixx="6.8e-01" ixy="0" ixz="0" iyy="6.8e-01" iyz="0" izz="0.0101"/>
    </inertial>
    <visual>
      <geometry>
        <mesh filename="package://demo_navi/src/meshes/roller.stl"/>
      </geometry>
      <material name="roller_material">
        <color rgba="0.1 0.1 0.1 1"/>
      </material>
    </visual>
    <collision>
      <geometry>
        <mesh filename="package://demo_navi/src/meshes/roller.stl"/>
      </geometry>
    </collision>
  </link>
  <joint name="roller_n_rim_right_joint" type="continuous">
    <parent link="rim_right_link"/>
    <child link="roller_n_rim_right_link"/>
    <axis xyz="0 1 0"/>
    <origin rpy="0 0 0" xyz="-0.0146 0 0.0268"/>
    <limit effort="100000000" velocity="10"/>
  </joint>
  <gazebo reference="roller_n_rim_right_link">
    <!--<mu1>50.0</mu1>
  			<mu2>25.0</mu2>
      		<kp  value="10000000000.0" />
      		<kd  value="10000000000.0" /-->
    <dampingFactor>10</dampingFactor>
    <minDepth>1</minDepth>
    <material>Gazebo/Grey</material>
  </gazebo>
  <!--<gazebo reference="roller_${name}_rim_${parent}_joint">
    <selfCollide>False</selfCollide>
    <dampingFactor>10</dampingFactor>
    <minDepth>0.001</minDepth>
  </gazebo>-->
  <link name="roller_se_rim_right_link">
    <inertial>
      <mass value="0.1"/>
      <inertia ixx="6.8e-01" ixy="0" ixz="0" iyy="6.8e-01" iyz="0" izz="0.0101"/>
    </inertial>
    <visual>
      <geometry>
        <mesh filename="package://demo_navi/src/meshes/roller.stl"/>
      </geometry>
      <material name="roller_material">
        <color rgba="0.1 0.1 0.1 1"/>
      </material>
    </visual>
    <collision>
      <geometry>
        <mesh filename="package://demo_navi/src/meshes/roller.stl"/>
      </geometry>
    </collision>
  </link>
  <joint name="roller_se_rim_right_joint" type="continuous">
    <parent link="rim_right_link"/>
    <child link="roller_se_rim_right_link"/>
    <axis xyz="0 1 0"/>
    <origin rpy="-1.0472 0 0" xyz="-0.0146 -0.023 -0.0133"/>
    <limit effort="100000000" velocity="10"/>
  </joint>
  <gazebo reference="roller_se_rim_right_link">
    <!--<mu1>50.0</mu1>
  			<mu2>25.0</mu2>
      		<kp  value="10000000000.0" />
      		<kd  value="10000000000.0" /-->
    <dampingFactor>10</dampingFactor>
    <minDepth>1</minDepth>
    <material>Gazebo/Grey</material>
  </gazebo>
  <!--<gazebo reference="roller_${name}_rim_${parent}_joint">
    <selfCollide>False</selfCollide>
    <dampingFactor>10</dampingFactor>
    <minDepth>0.001</minDepth>
  </gazebo>-->
  <transmission name="rim_right_transmission">
    <type>transmission_interface/SimpleTransmission</type>
    <joint name="rim_right_joint">
      <hardwareInterface>hardware_interface/VelocityJointInterface</hardwareInterface>
    </joint>
    <actuator name="rim_right_motor">
      <hardwareInterface>hardware_interface/VelocityJointInterface</hardwareInterface>
      <mechanicalReduction>1</mechanicalReduction>
    </actuator>
  </transmission>
  <gazebo reference="rim_right_link">
    <!--mu1>50.0</mu1>
  				<mu2>25.0</mu2-->
    <!--kp  value="10000000.0" />
      			<selfCollide>False</selfCollide>
      			<kd  value="10000000.0" /-->
    <dampingFactor>10</dampingFactor>
    <minDepth>1</minDepth>
  </gazebo>
  <joint name="sick_joint_R" type="fixed">
    <parent link="base_link"/>
    <child link="sick_R_laser"/>
    <!-- allakse to adress -->
    <origin rpy="-3.1415 0 -1.0472" xyz="0.008 -0.275 0.042"/>
  </joint>
  <link name="sick_R_laser">
    <visual>
      <geometry>
        <mesh filename="package://demo_navi/src/meshes/sick_tim_5xx.stl"/>
      </geometry>
      <material name="blue">
        <color rgba="0 0 1 1"/>
      </material>
    </visual>
    <collision>
      <geometry>
        <mesh filename="package://demo_navi/src/meshes/sick_tim_5xx.stl"/>
      </geometry>
    </collision>
    <!--inertial>
        <mass value="0.001" />
        <origin xyz="0.008 -0.275 0.042" />
        <inertia ixx="0.000001" ixy="0.0" ixz="0.0"
          iyy="0.000001" iyz="0.0" izz="0.000001" />
      </inertial-->
  </link>
  <joint name="sick_joint_L" type="fixed">
    <parent link="base_link"/>
    <child link="sick_L_laser"/>
    <origin rpy="-3.1415 0 1.0472" xyz="0.008 0.275 0.042"/>
  </joint>
  <link name="sick_L_laser">
    <visual>
      <geometry>
        <mesh filename="package://demo_navi/src/meshes/sick_tim_5xx.stl"/>
      </geometry>
      <material name="blue">
        <color rgba="0 0 1 1"/>
      </material>
    </visual>
    <collision>
      <geometry>
        <mesh filename="package://demo_navi/src/meshes/sick_tim_5xx.stl"/>
      </geometry>
    </collision>
    <!--inertial>
        <mass value="0.001" />
        <origin xyz="0 0.27 0.07" />
        <inertia ixx="0.000001" ixy="0.0" ixz="0.0"
          iyy="0.000001" iyz="0.0" izz="0.000001" />
      </inertial-->
  </link>
  <gazebo>
    <plugin filename="libgazebo_ros_control.so" name="gazebo_ros_control">
      <robotNamespace>/demo_DIR</robotNamespace>
    </plugin>
  </gazebo>
  <!--<gazebo reference="base_link">
	<dampingFactor>10</dampingFactor>
	<minDepth>0.001</minDepth>
   </gazebo>-->
  <gazebo>
    <plugin filename="libgazebo_ros_planar_move.so" name="object_controller">
      <commandTopic>/gaz_controller/cmd_vel</commandTopic>
      <leftJoint>left_rim_joint</leftJoint>
      <rightJoint>right_rim_joint</rightJoint>
      <backJoint>back_rim_joint</backJoint>
      <wheelSeparation>0.25</wheelSeparation>
      <wheelDiameter>0.7</wheelDiameter>
      <torque>10</torque>
      <odometryTopic>odom</odometryTopic>
      <odometryFrame>odom</odometryFrame>
      <odometryRate>20.0</odometryRate>
      <robotBaseFrame>base_footprint</robotBaseFrame>
    </plugin>
  </gazebo>
  <gazebo reference="imu_link">
    <gravity>true</gravity>
    <sensor name="imu_sensor" type="imu">
      <always_on>true</always_on>
      <update_rate>100</update_rate>
      <visualize>true</visualize>
      <topic>__default_topic_imu_link__</topic>
      <plugin filename="libgazebo_ros_imu_sensor.so" name="imu_plugin">
        <topicName>imu</topicName>
        <bodyName>imu_link</bodyName>
        <updateRateHZ>10.0</updateRateHZ>
        <gaussianNoise>0.0</gaussianNoise>
        <xyzOffset>0 0 0</xyzOffset>
        <rpyOffset>0 0 0</rpyOffset>
        <frameName>imu_link</frameName>
        <initialOrientationAsReference>false</initialOrientationAsReference>
      </plugin>
      <pose>0 0 0 0 0 0</pose>
    </sensor>
  </gazebo>
  <gazebo reference="sick_L_laser">
    <material value="Gazebo/Blue"/>
    <sensor name="sick_lms_5_laser_gazebo_v0" type="ray">
      <always_on>true</always_on>
      <update_rate>15.0</update_rate>
      <pose>0 0 0 0 0 0</pose>
      <visualize>false</visualize>
      <ray>
        <scan>
          <horizontal>
            <samples>811</samples>
            <resolution>1</resolution>
            <min_angle>-1.0</min_angle>
            <!--90 moires -->
            <max_angle>2.357</max_angle>
            <!--140 moires -->
          </horizontal>
        </scan>
        <range>
          <min>0.15</min>
          <max>4.0</max>
          <resolution>0.01</resolution>
        </range>
      </ray>
      <plugin filename="libgazebo_ros_laser.so" name="gazebo_ros_sick_lms_5_laser_gazebo_v0_controller">
        <gaussianNoise>0.005</gaussianNoise>
        <alwaysOn>true</alwaysOn>
        <updateRate>15.0</updateRate>
        <topicName>scan_L</topicName>
        <frameName>sick_L_laser</frameName>
      </plugin>
    </sensor>
  </gazebo>
  <gazebo reference="sick_R_laser">
    <material value="Gazebo/Blue"/>
    <sensor name="sick_lms_5_laser_gazebo_v01" type="ray">
      <always_on>true</always_on>
      <update_rate>15.0</update_rate>
      <pose>0 0 0 0 0 0</pose>
      <visualize>false</visualize>
      <ray>
        <scan>
          <horizontal>
            <samples>811</samples>
            <resolution>1</resolution>
            <min_angle>-2.357</min_angle>
            <!--140 moires -->
            <max_angle>1.0</max_angle>
            <!--90 moires -->
          </horizontal>
        </scan>
        <range>
          <min>0.15</min>
          <max>4.0</max>
          <resolution>0.01</resolution>
        </range>
      </ray>
      <plugin filename="libgazebo_ros_laser.so" name="gazebo_ros_sick_lms_5_laser_gazebo_v01_controller">
        <gaussianNoise>0.005</gaussianNoise>
        <alwaysOn>true</alwaysOn>
        <updateRate>15.0</updateRate>
        <topicName>scan_R</topicName>
        <frameName>sick_R_laser</frameName>
      </plugin>
    </sensor>
  </gazebo>
  <gazebo>
    <plugin filename="libgazebo_grasp_fix.so" name="gazebo_grasp_fix">
      <arm>
        <arm_name>widowxl</arm_name>
        <palm_link>wrist_2_link</palm_link>
        <gripper_link>gripper_1_link</gripper_link>
        <gripper_link>gripper_2_link</gripper_link>
      </arm>
      <forces_angle_tolerance>100</forces_angle_tolerance>
      <update_rate>4</update_rate>
      <grip_count_threshold>4</grip_count_threshold>
      <max_grip_count>8</max_grip_count>
      <release_tolerance>0.007</release_tolerance>
      <disable_collisions_on_attach>false</disable_collisions_on_attach>
      <contact_topic>__default_topic__</contact_topic>
    </plugin>
  </gazebo>
  <gazebo reference="base_link">
    <material>Gazebo/Crimson</material>
  </gazebo>
  <gazebo reference="rim_left_link">
    <material>Gazebo/Black</material>
  </gazebo>
  <gazebo reference="rim_back_link">
    <material>Gazebo/Black</material>
  </gazebo>
  <gazebo reference="rim_right_link">
    <material>Gazebo/Black</material>
  </gazebo>
</robot>
